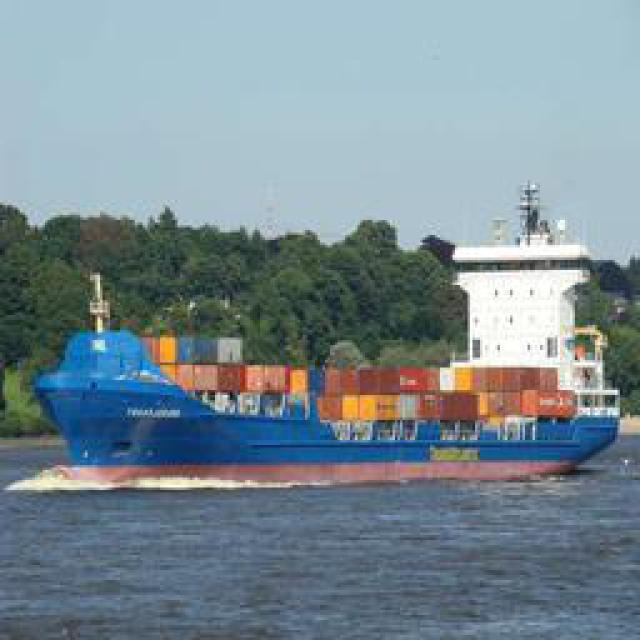Ship: (26, 286, 614, 494)
